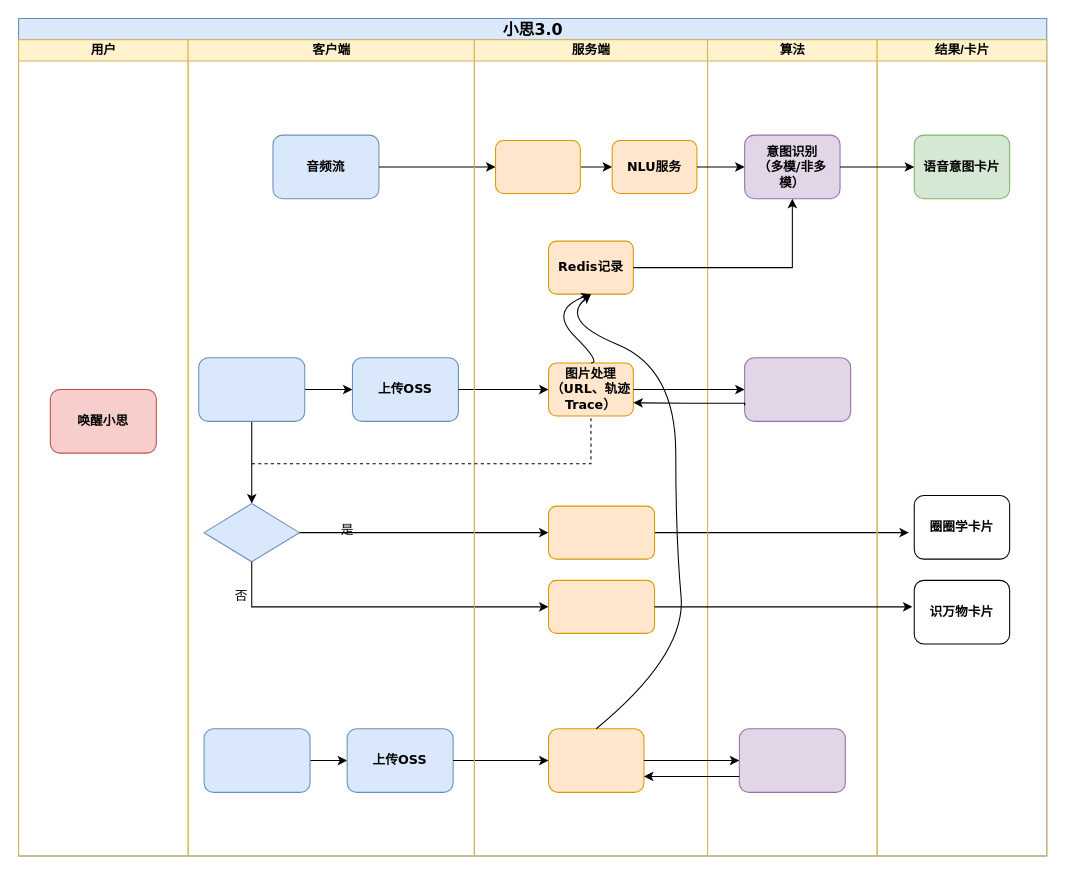
The diagram is 1065 pixels wide and 874 high, and some of its shapes have lost their labels. Each missing label, with the centre of its shape:
WS/ASR: pixel 537 166
万物识接口逻辑: pixel 601 606
图片处理 （URL、指尖位置）: pixel 595 760
圈圈学接口逻辑: pixel 601 532
屏上图片理解: pixel 797 389
屏上圈选: pixel 251 389
屏下图片理解: pixel 791 760
屏下采集: pixel 256 760
文本: pixel 251 532
